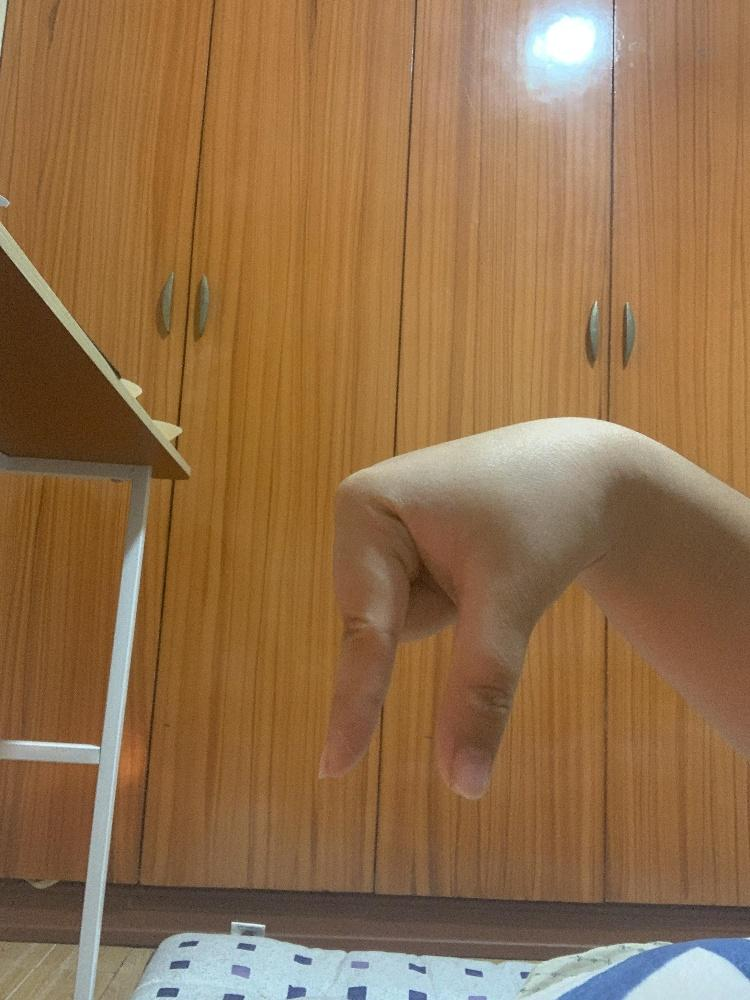q: (311, 415, 583, 804)
